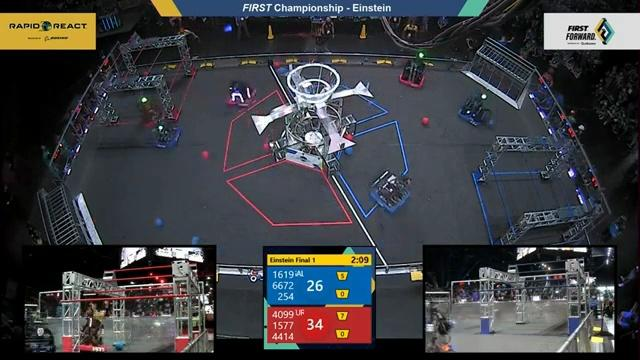robot: (361, 167, 416, 216), (452, 91, 493, 131), (219, 73, 259, 113), (426, 296, 454, 352), (128, 95, 171, 131), (393, 55, 429, 93), (147, 121, 191, 152), (78, 310, 108, 352)
